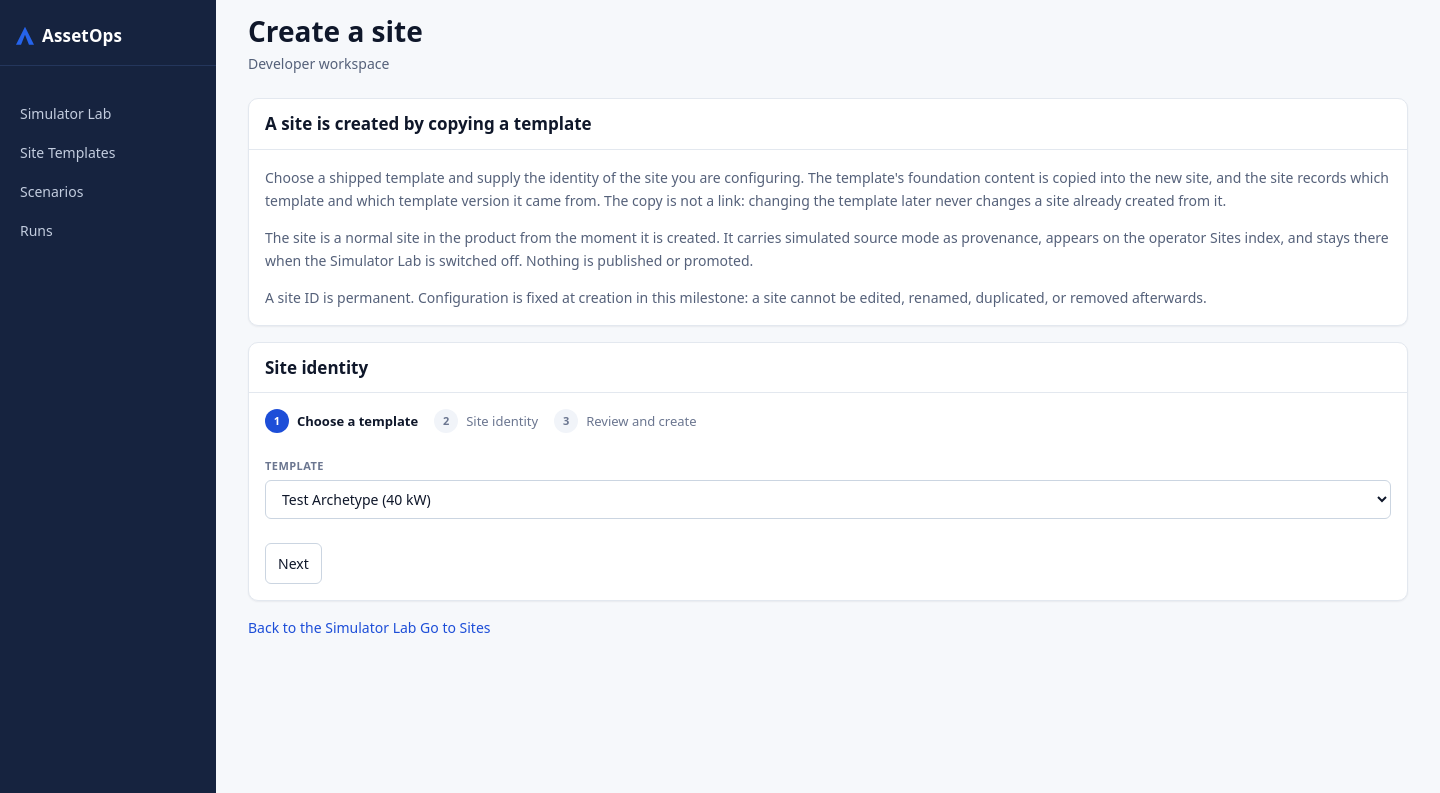
refusals › shows the reason for a malformed site ID exactly as given
Check: the dropdown labelled "Template" is shown, box [265,480,1391,519]
Click the button "Next" at (293, 563), box [265,543,322,584]
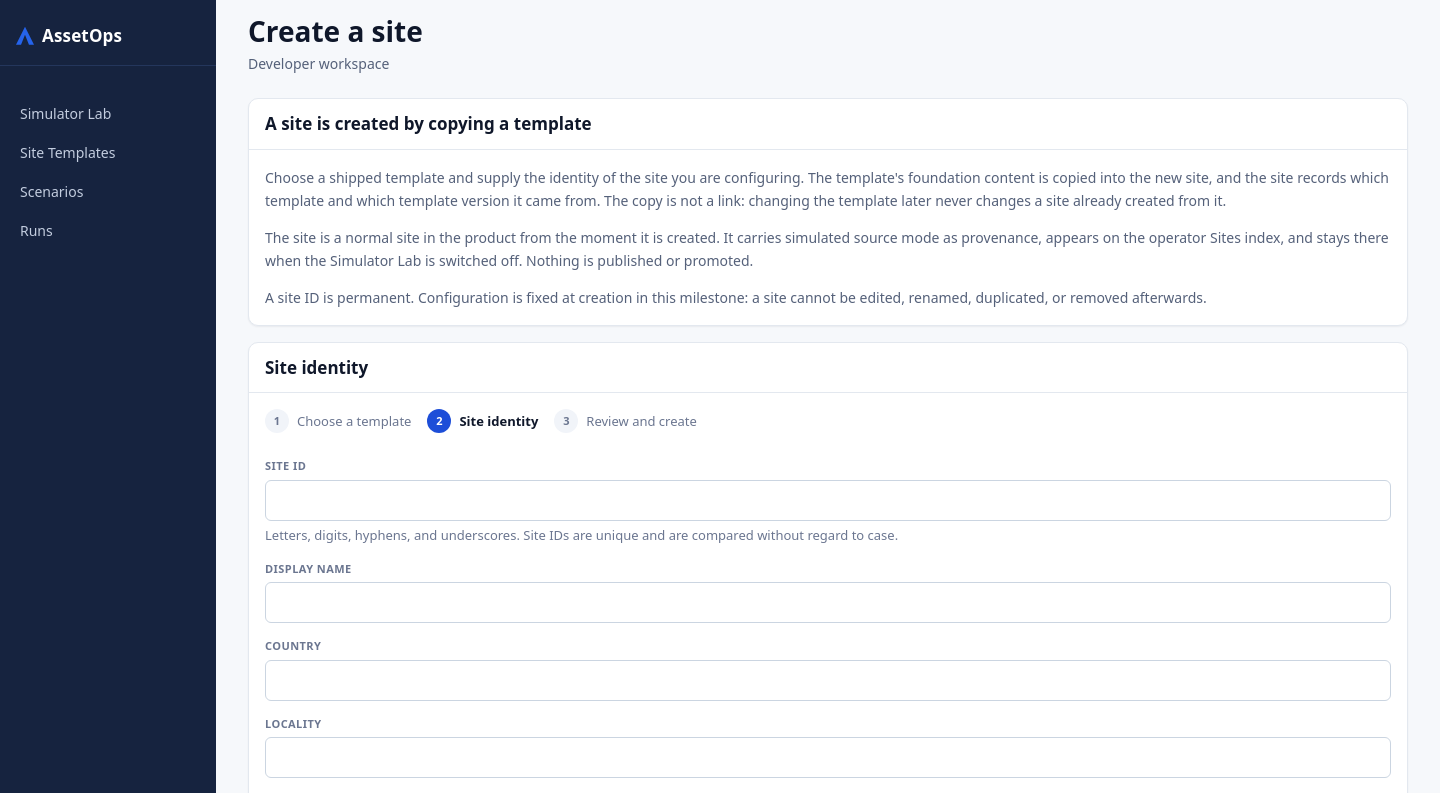
Type "MG-002" into the field labelled "Site ID" at (828, 500), box [265,480,1391,521]
Type "Kalangala Mini-Grid" into the field labelled "Display name" at (828, 603), box [265,582,1391,623]
Type "Uganda" into the field labelled "Country" at (828, 680), box [265,660,1391,701]
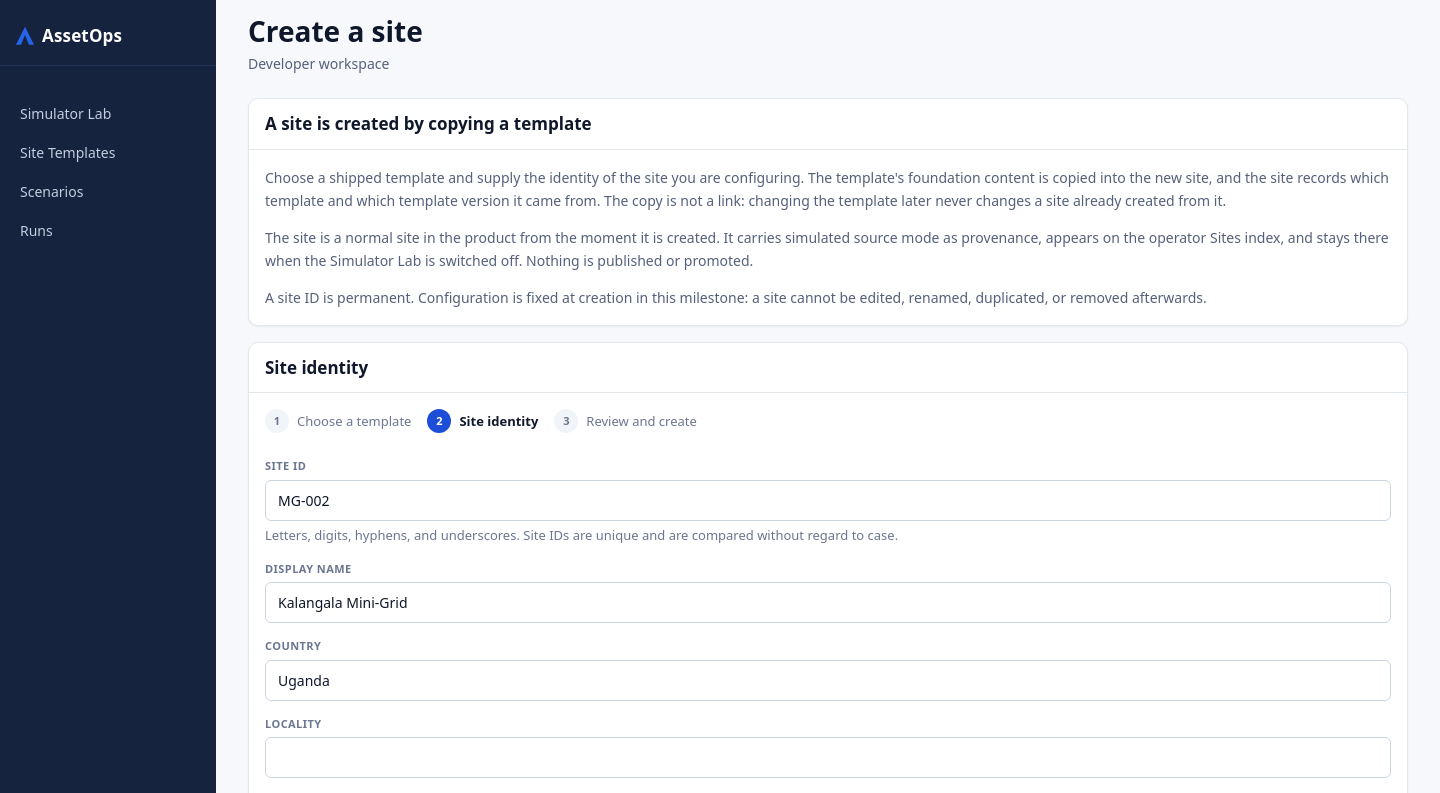
Type "Kalangala" into the field labelled "Locality" at (828, 757), box [265,737,1391,778]
(page scrolled)
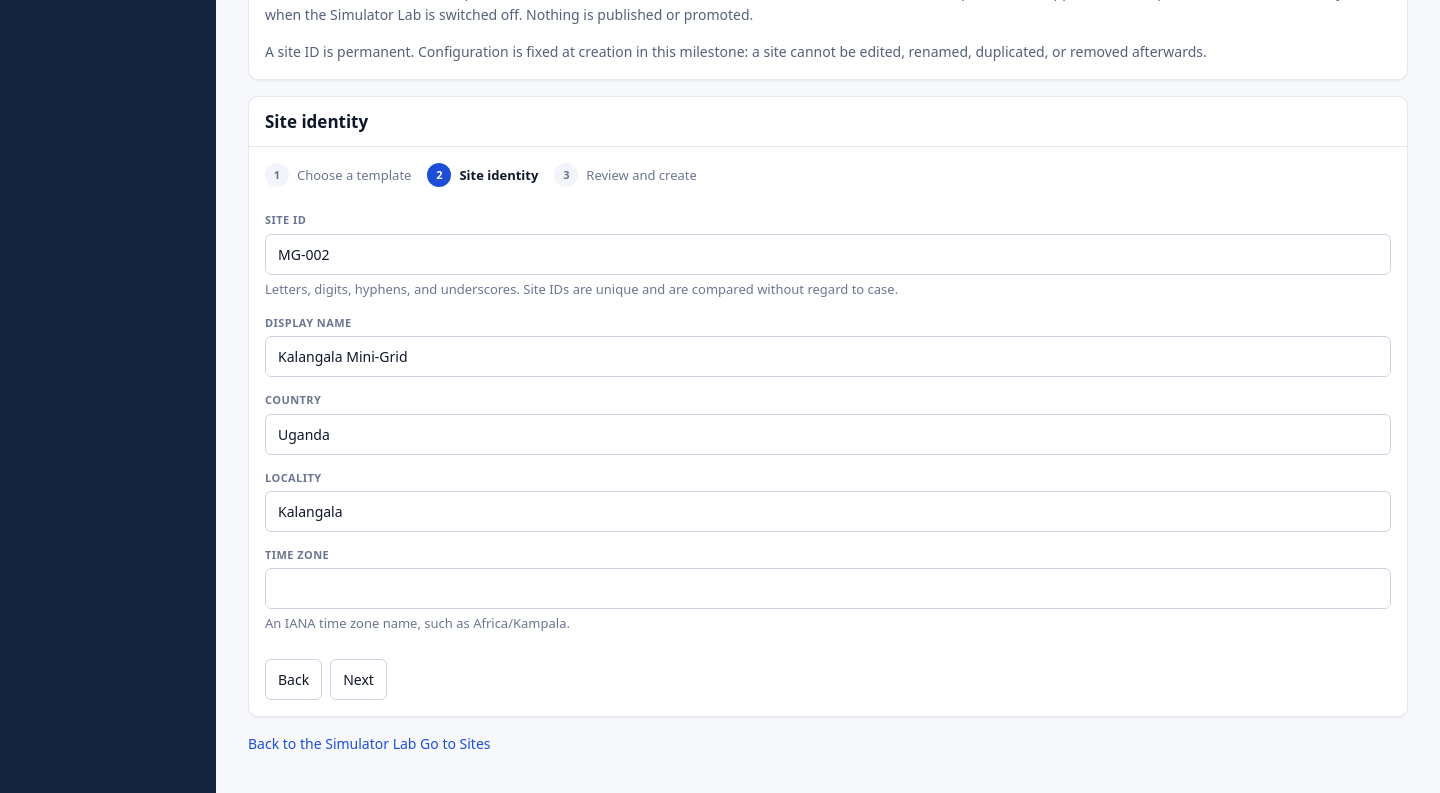
Type "Africa/Kampala" into the field labelled "Time zone" at (828, 589), box [265,568,1391,609]
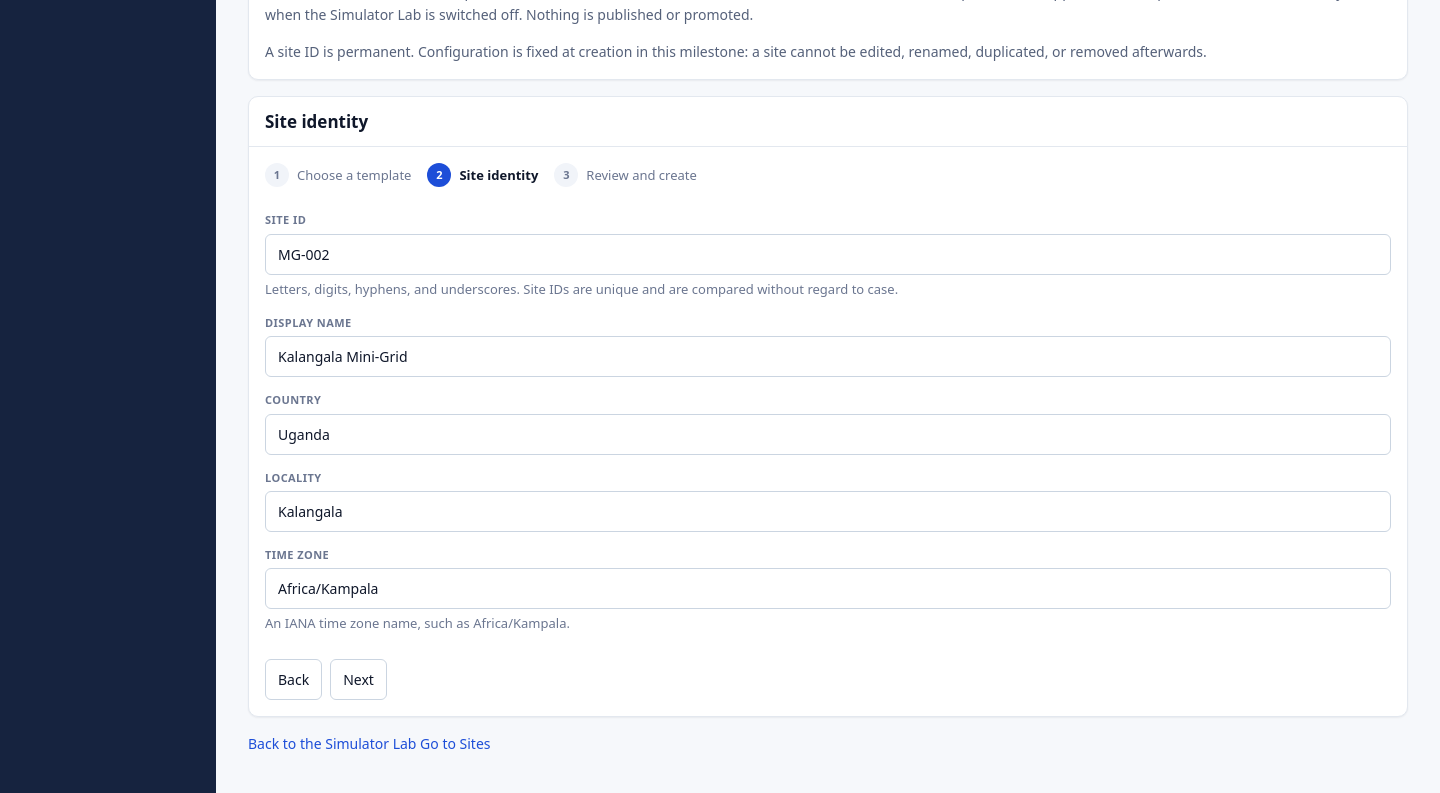
Click the button "Next" at (359, 679), box [330,658,387,700]
(page scrolled)
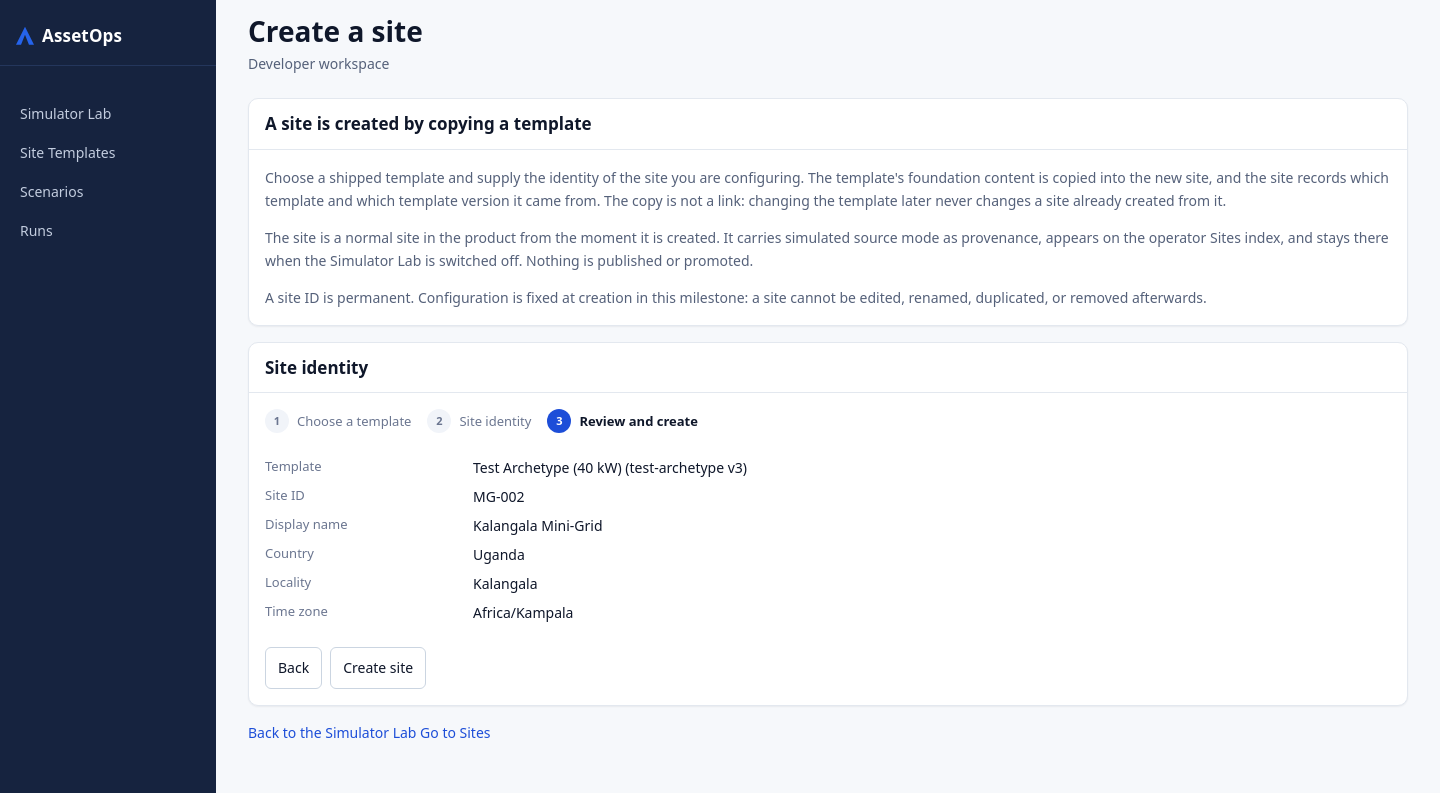
Click the button "Create site" at (378, 668), box [330,648,426,689]
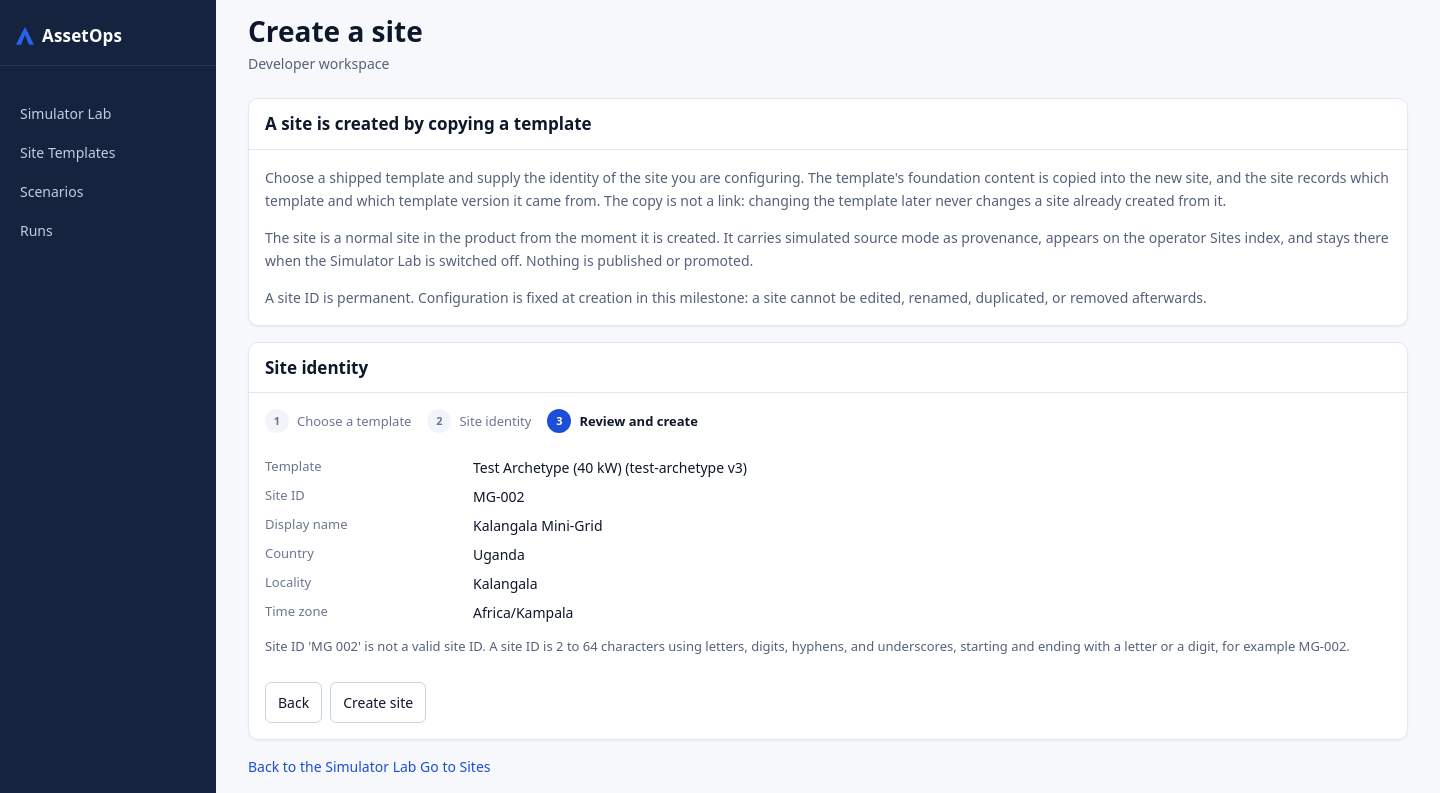
Check: the message shows "Site ID 'MG 002' is not a valid site ID. A site ID is 2 to 64 characters using letters, digits, hyphens, and underscores, starting and ending with a letter or a", box [265,638,1350,656]
